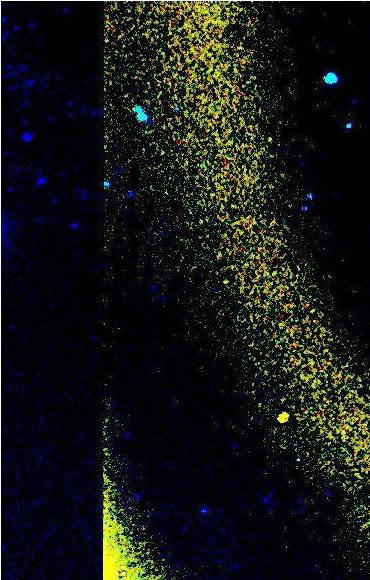star: (269, 402, 299, 432)
